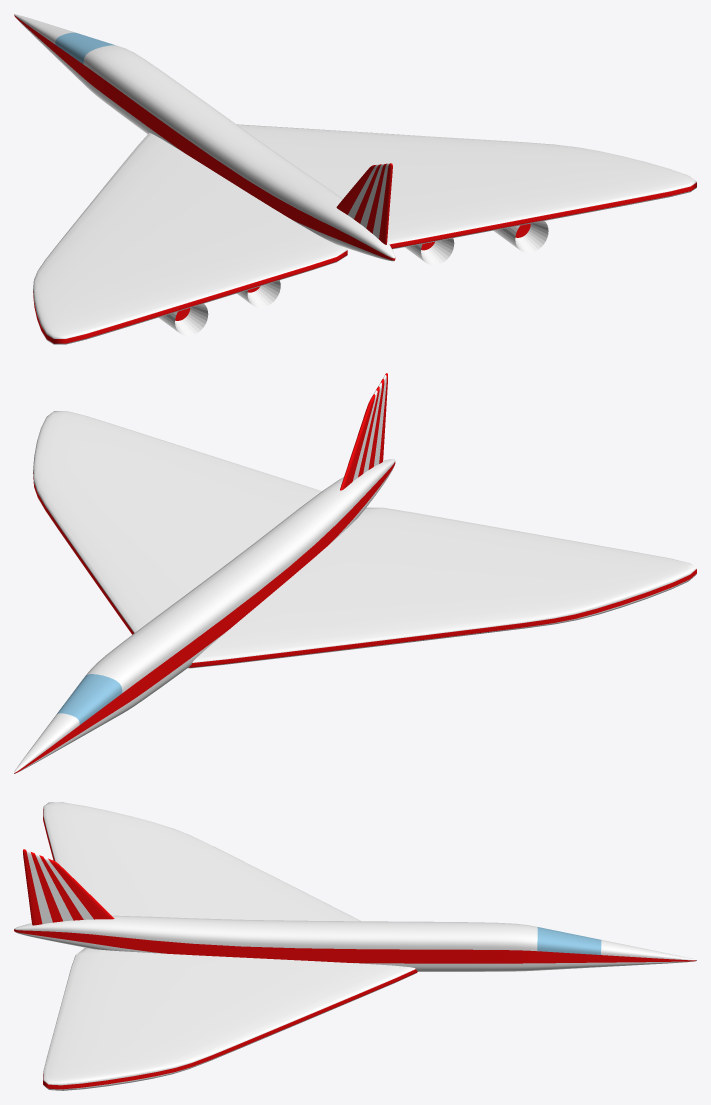
File: boeing.fbx
3 views of the same model, one above another, from view 1: azimuth 30°, elevation 25°; view 2: azimuth 150°, elevation 25°; view 3: azimuth 270°, elevation 25° (orthographic). The views are drawn at different scales.
Parts seen in each view (by area): view 1: Cube.026, Cube.027, Cube.018; view 2: Cube.026, Cube.027, Cube.018; view 3: Cube.027, Cube.018, Cube.026.
Part boxes in pixels (<box>): Cube.026: <box>33,133,347,344</box>; Cube.027: <box>237,124,696,265</box>; Cube.018: <box>14,14,395,261</box>; Cube.026: <box>188,507,696,668</box>; Cube.027: <box>33,411,321,634</box>; Cube.018: <box>14,373,395,773</box>; Cube.027: <box>43,948,417,1090</box>; Cube.018: <box>14,849,696,971</box>; Cube.026: <box>43,802,361,921</box>.
Bounding box in the file's own units: 2860 × 637 × 2931.
